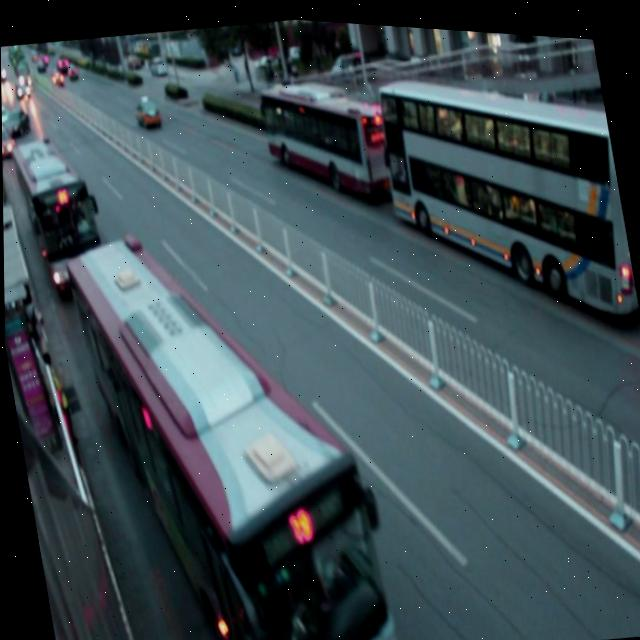car: (131, 93, 161, 130), (1, 126, 17, 159)
van: (63, 214, 390, 640), (374, 46, 640, 343), (258, 68, 397, 207), (9, 131, 107, 296)
